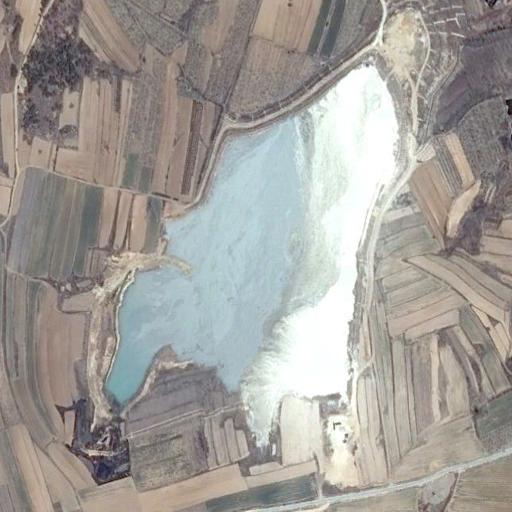tp: (106, 47, 412, 448)
